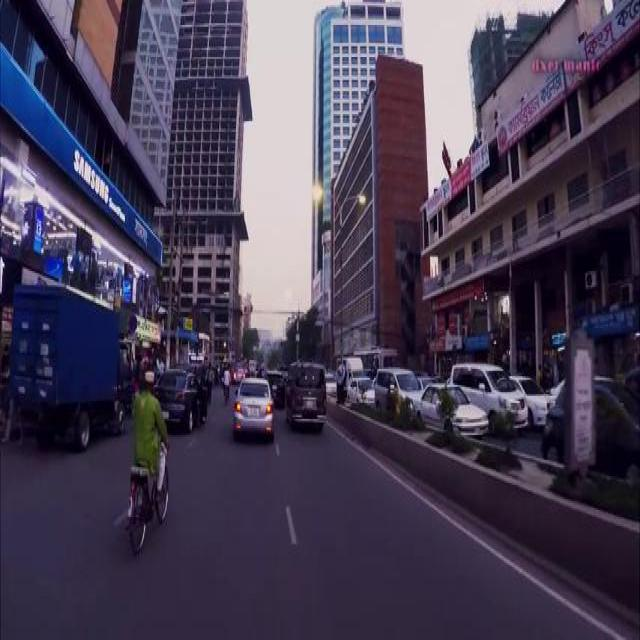bicycle: (124, 432, 168, 549)
bus: (353, 345, 395, 370)
car: (412, 381, 488, 437), (152, 365, 200, 428), (230, 374, 274, 434), (511, 373, 554, 424), (345, 375, 373, 400), (324, 373, 336, 392)
minivan: (448, 359, 526, 427), (374, 366, 421, 406)
pickup: (10, 281, 132, 445), (341, 355, 361, 371)
suv: (266, 368, 284, 400)
van: (283, 359, 325, 424)
